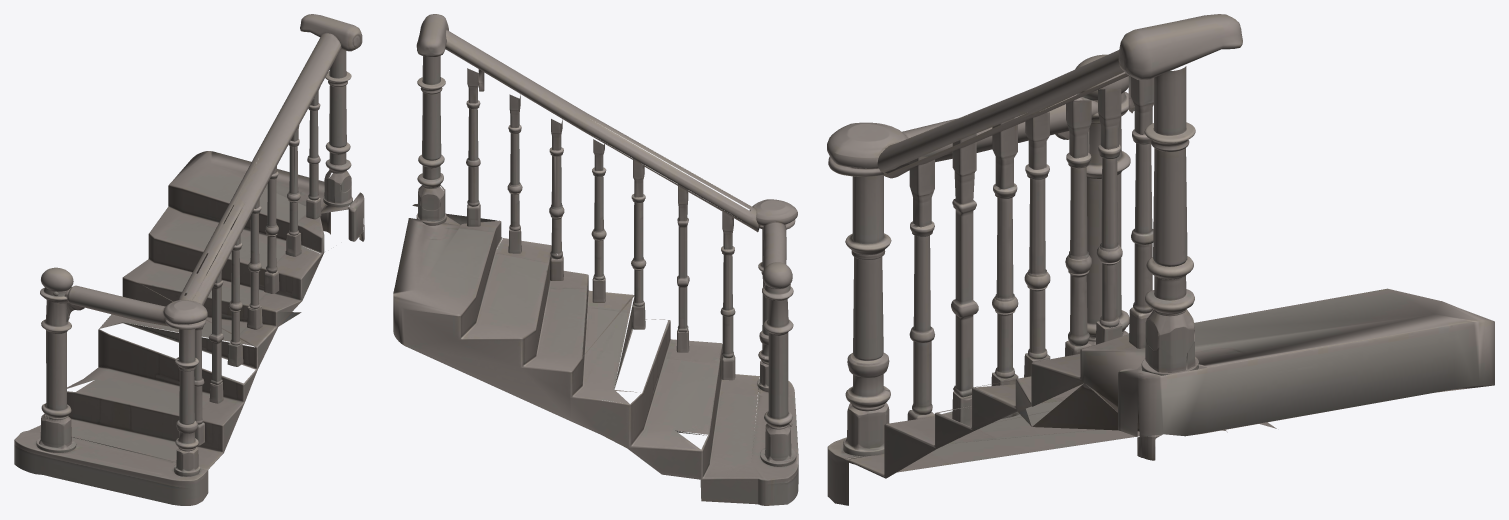
Rendered from toonstudio_stair_railing.glb.
3 renders of one model, left to right at view 1: azimuth 30°, elevation 25°; view 2: azimuth 150°, elevation 25°; view 3: azimuth 270°, elevation 25°, orthographic. The views are drawn at different scales.
Parts seen in each view (by area): view 1: tripo_8865d2ad_c51f_485c_ad58_6215ddb37dfb; view 2: tripo_8865d2ad_c51f_485c_ad58_6215ddb37dfb; view 3: tripo_8865d2ad_c51f_485c_ad58_6215ddb37dfb.
Part boxes in pixels (x1,y1,x2,y2): tripo_8865d2ad_c51f_485c_ad58_6215ddb37dfb: (14,14,364,505); tripo_8865d2ad_c51f_485c_ad58_6215ddb37dfb: (393,14,798,505); tripo_8865d2ad_c51f_485c_ad58_6215ddb37dfb: (827,14,1494,505).
Bounding box in the file's own units: 2 × 2 × 1.76.
Materials: 1 (1 with a texture image).
